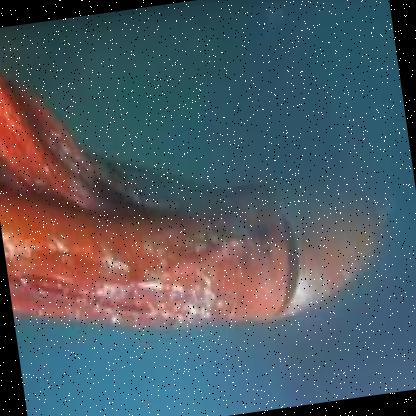colossal_squid: (0, 0, 406, 374)
